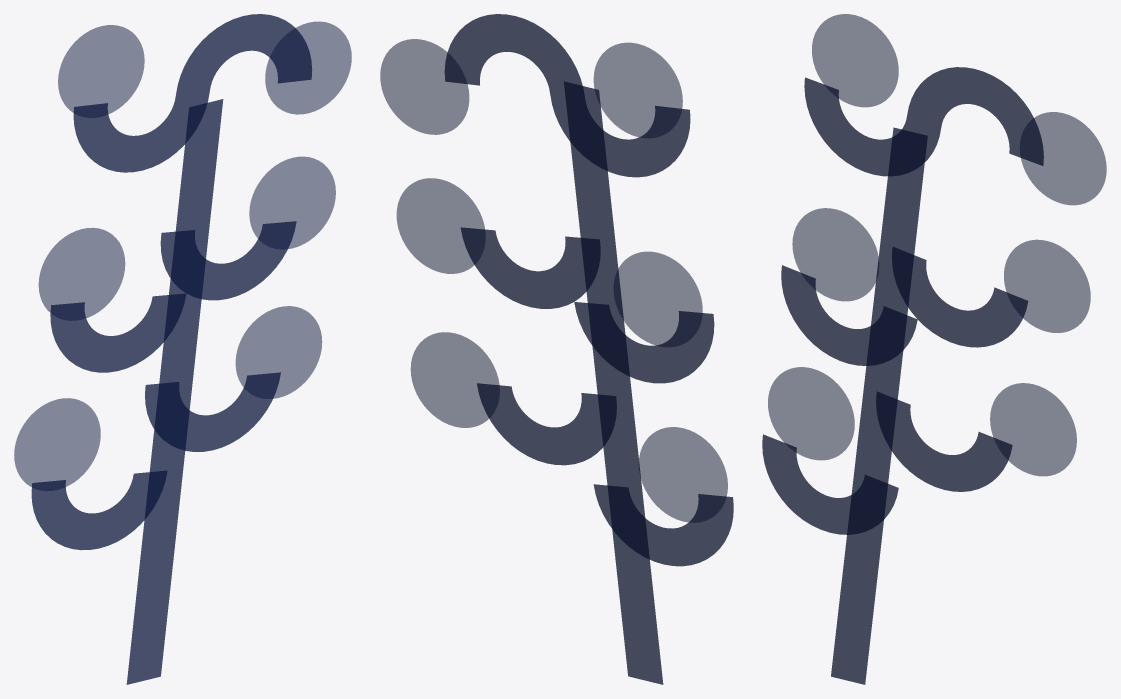
Rendered from fleur.gltf.
3 views of the same model, side by side, from view 1: azimuth 30°, elevation 25°; view 2: azimuth 150°, elevation 25°; view 3: azimuth 330°, elevation 25° (orthographic). The views are drawn at different scales.
Parts seen in each view (by area): view 1: Curve.031; view 2: Curve.031; view 3: Curve.031.
Boxes of the visible parts, x1,y1,x2,y2 form: Curve.031: [14, 14, 351, 684]; Curve.031: [380, 14, 733, 684]; Curve.031: [762, 14, 1106, 684].
Size of the model in its own units: 0.0125 by 0.0227 by 0.0016.
